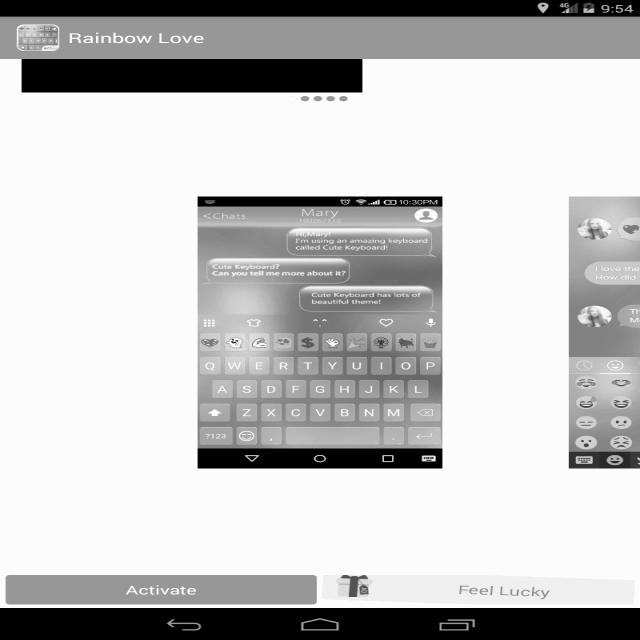Button: (2, 568, 320, 606)
ImageView: (190, 194, 456, 464), (559, 194, 638, 472), (14, 19, 60, 51), (332, 570, 378, 598)
TextView: (69, 30, 210, 46)
